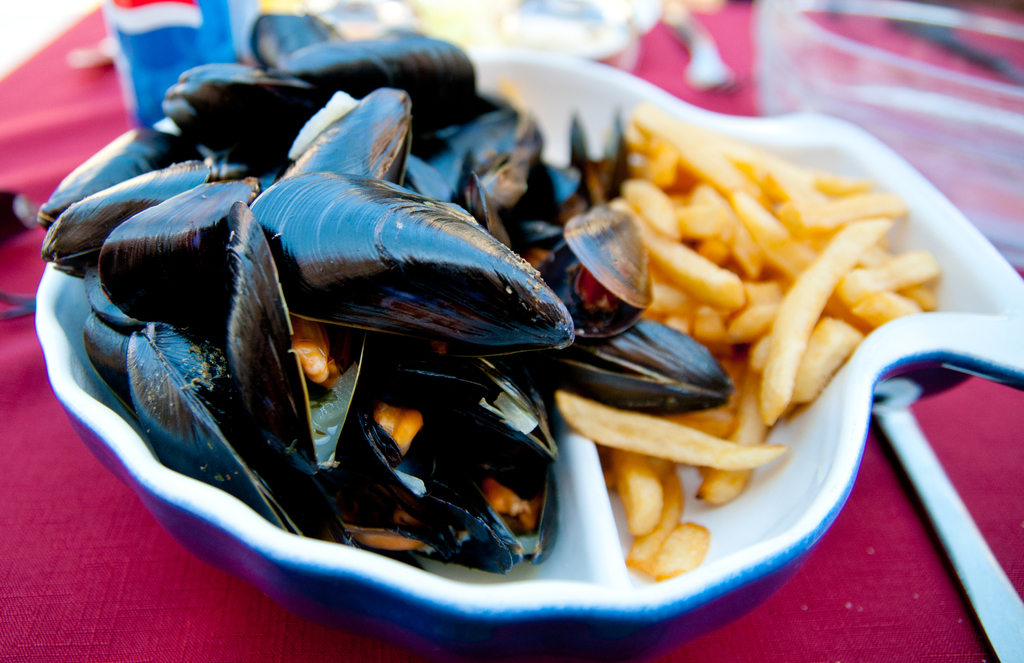French fries: (599, 89, 922, 493)
